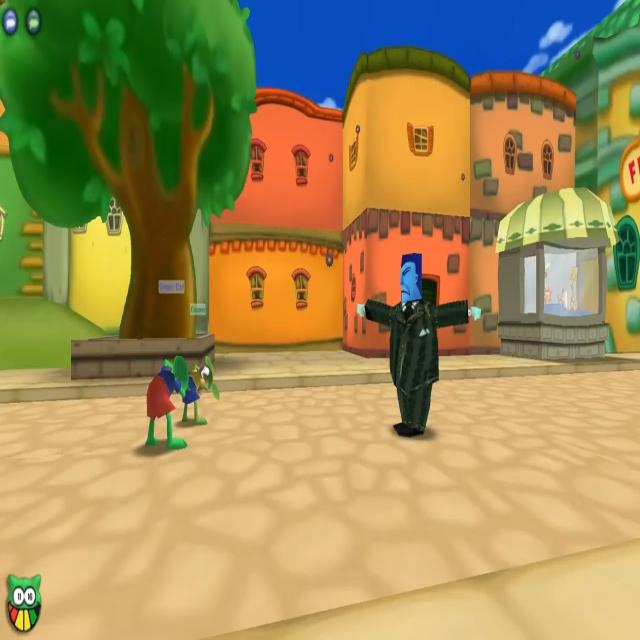shortchange: (364, 257, 440, 438)
